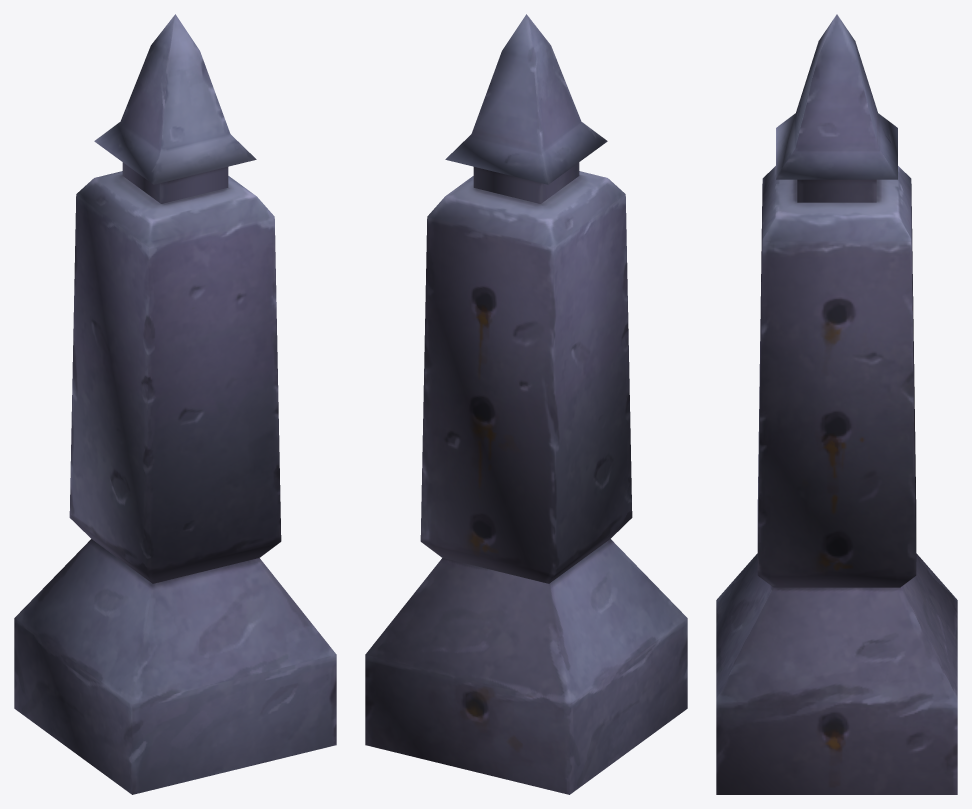
The model's file is SleepingGarden_Pillar_01.fbx.
3 renders of one model, left to right at view 1: azimuth 30°, elevation 25°; view 2: azimuth 150°, elevation 25°; view 3: azimuth 270°, elevation 25°, orthographic. The views are drawn at different scales.
Parts seen in each view (by area): view 1: SleepingGarden_Pillar_01; view 2: SleepingGarden_Pillar_01; view 3: SleepingGarden_Pillar_01.
Part boxes in pixels (bbox=[...]): SleepingGarden_Pillar_01: bbox=[14, 14, 336, 794]; SleepingGarden_Pillar_01: bbox=[365, 14, 687, 794]; SleepingGarden_Pillar_01: bbox=[716, 14, 957, 794].
Size of the model in its own units: 0.64 by 2.13 by 0.64.
Materials: 1 (1 with a texture image).
